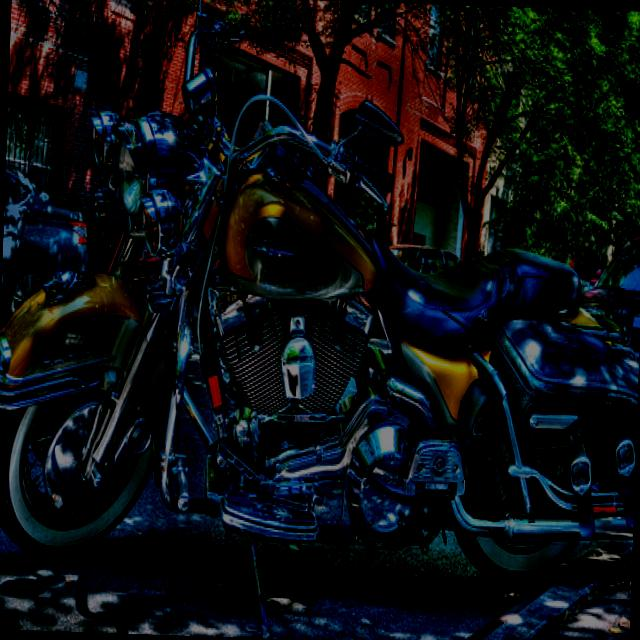Vehicle: (0, 0, 640, 640), (0, 153, 93, 326), (587, 231, 640, 417), (386, 242, 458, 273)
